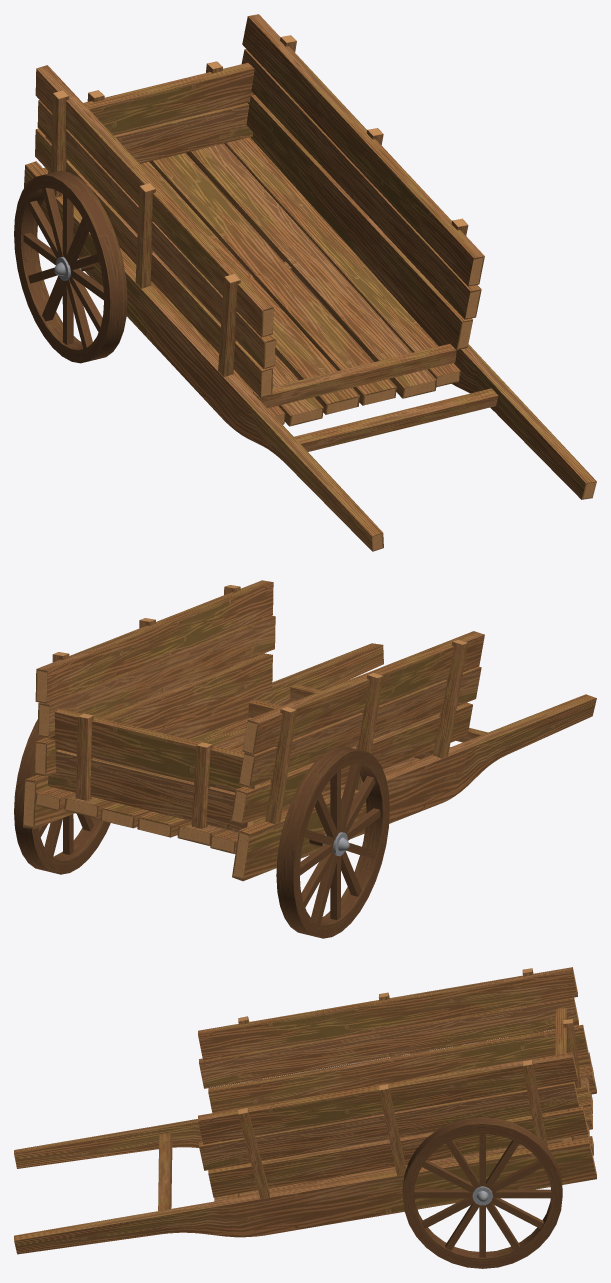
Rendered from med-carroca.gltf.
3 renders of one model, top to bottom at view 1: azimuth 30°, elevation 25°; view 2: azimuth 150°, elevation 25°; view 3: azimuth 270°, elevation 25°, orthographic. The views are drawn at different scales.
Visible parts, largest first — view 1: Prop_Wagon; view 2: Prop_Wagon; view 3: Prop_Wagon.
Boxes of the visible parts, box(x1,y1,x2,y2) form: Prop_Wagon: box(14, 14, 596, 551); Prop_Wagon: box(14, 580, 596, 938); Prop_Wagon: box(14, 967, 596, 1268).
Bounding box in the file's own units: 1.46 × 1.15 × 3.02.
1 material, 1 textured.
